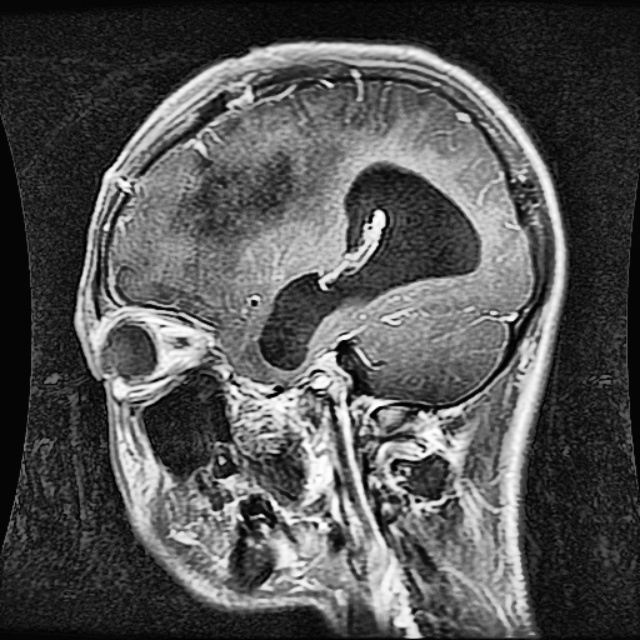Meningioma: (255, 157, 479, 373)
